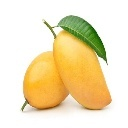mango: (53, 26, 112, 110), (23, 50, 71, 109)
